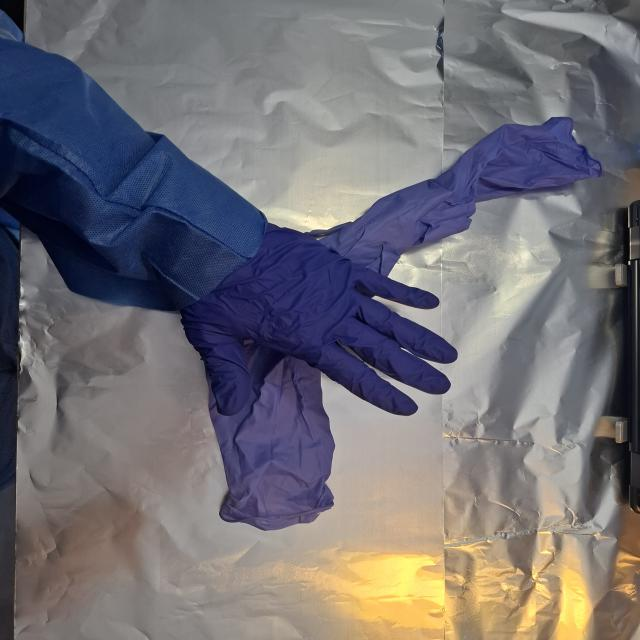glove_on: (176, 220, 460, 418)
